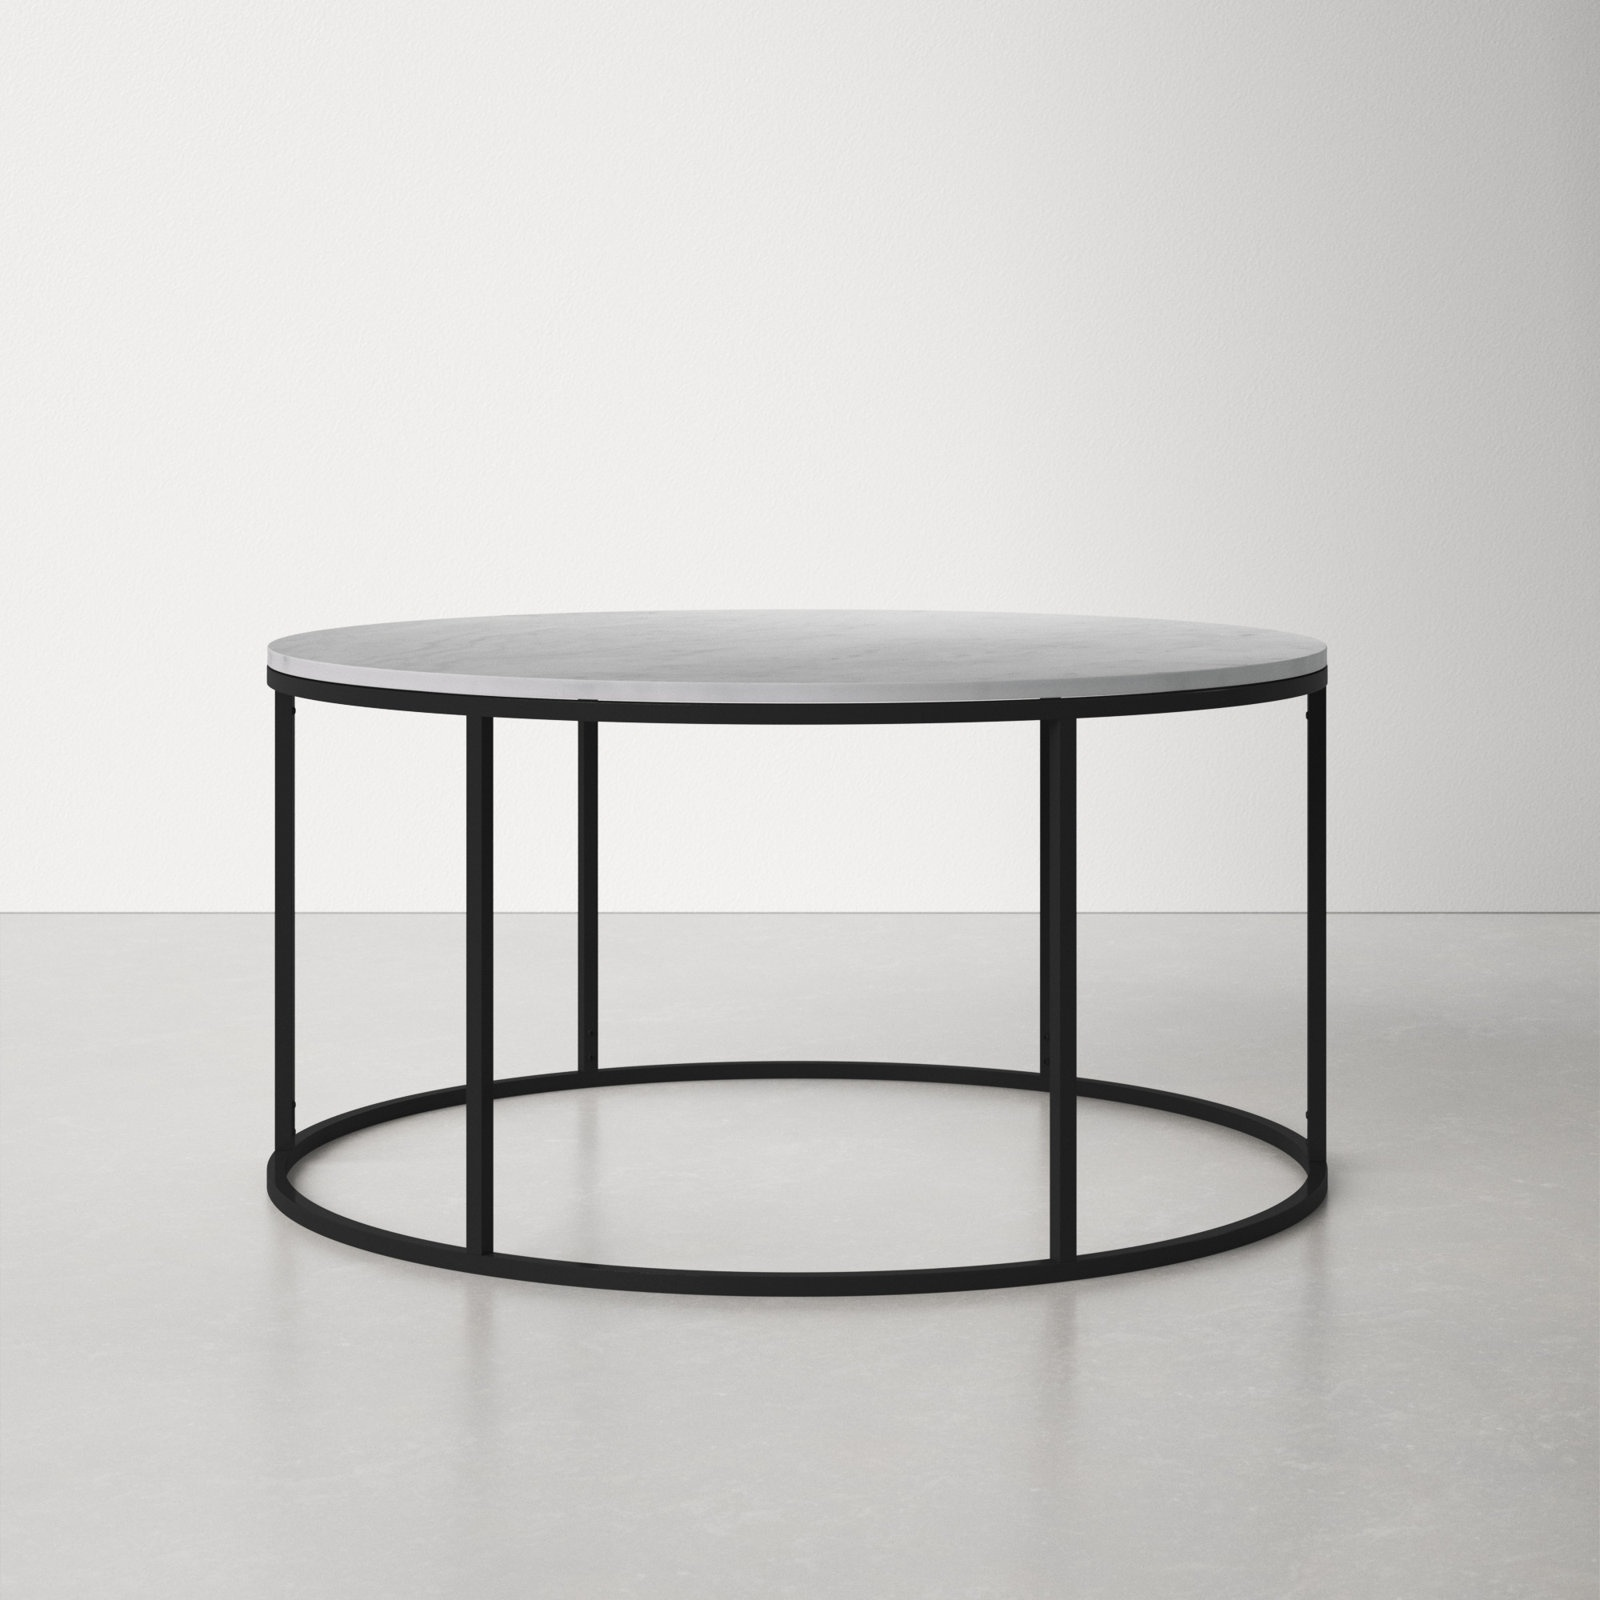obstacle: (267, 610, 1327, 1295)
